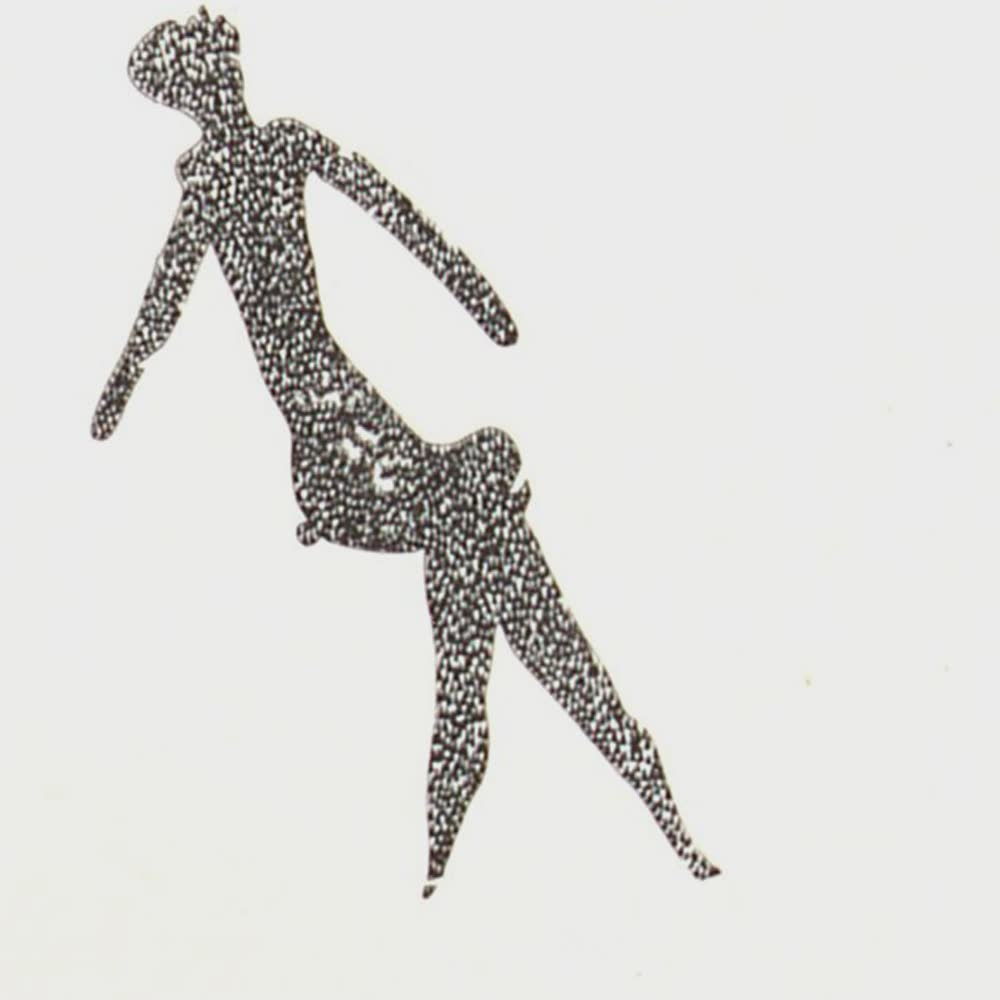woman: (86, 3, 733, 916)
